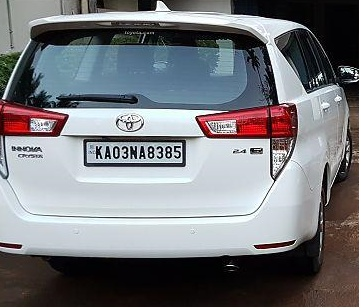plate: (80, 126, 199, 184)
